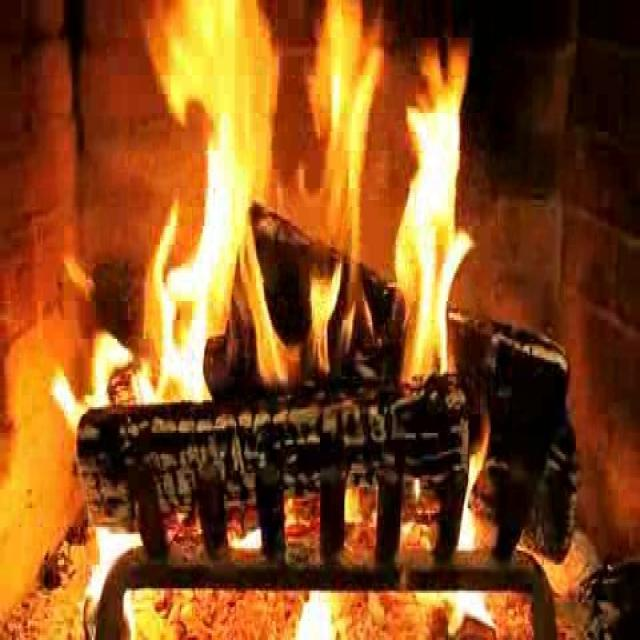Fire: (136, 12, 462, 414)
